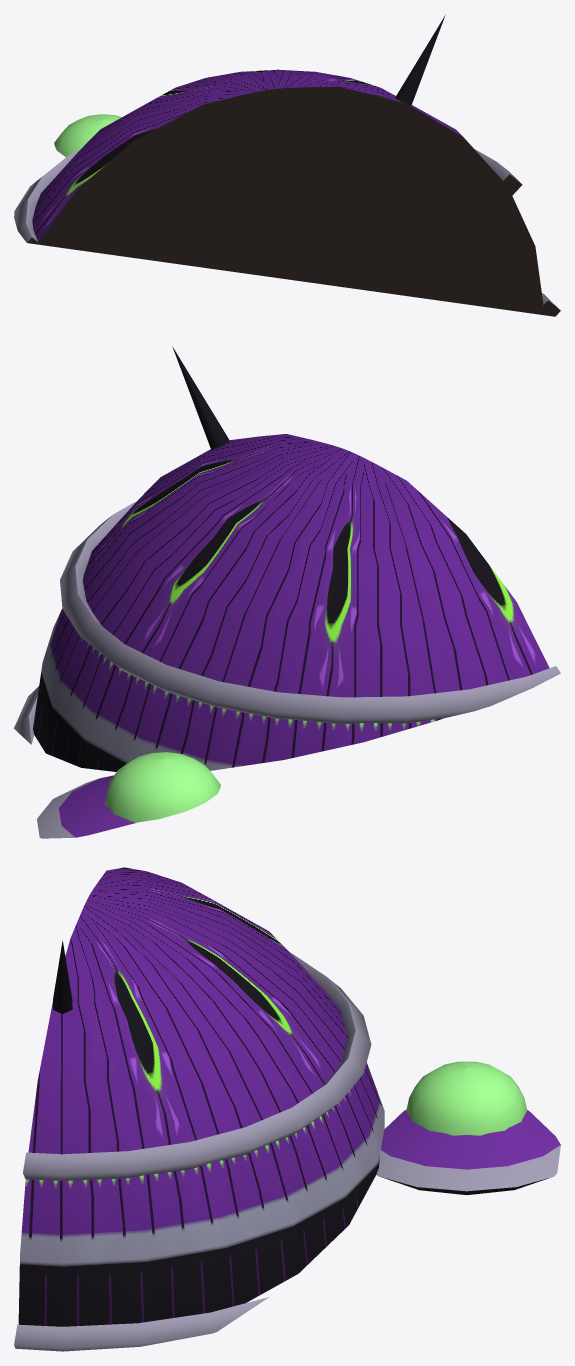
Rendered from cargo_orb_debris2.obj.
3 views of the same model, one above another, from view 1: azimuth 30°, elevation 25°; view 2: azimuth 150°, elevation 25°; view 3: azimuth 270°, elevation 25° (orthographic). The views are drawn at different scales.
Visible parts, largest first — view 1: orb, band, cab_dome, spike; view 2: orb, band, cab_dome, cab, spike; view 3: orb, band, cab, cab_dome, spike.
Boxes of the visible parts, x1,y1,x2,y2 form: orb: [32, 69, 544, 315]; band: [14, 149, 560, 316]; cab_dome: [54, 114, 121, 157]; spike: [395, 15, 445, 113]; orb: [33, 434, 549, 771]; band: [14, 502, 560, 744]; cab_dome: [105, 752, 220, 822]; cab: [37, 775, 135, 838]; spike: [172, 346, 229, 450]; orb: [18, 867, 384, 1326]; band: [14, 953, 371, 1351]; cab: [376, 1109, 560, 1195]; cab_dome: [406, 1061, 527, 1135]; spike: [53, 941, 72, 1014].
Size of the model in its own units: 28.46 by 17.67 by 24.36.
6 materials, 1 textured.
